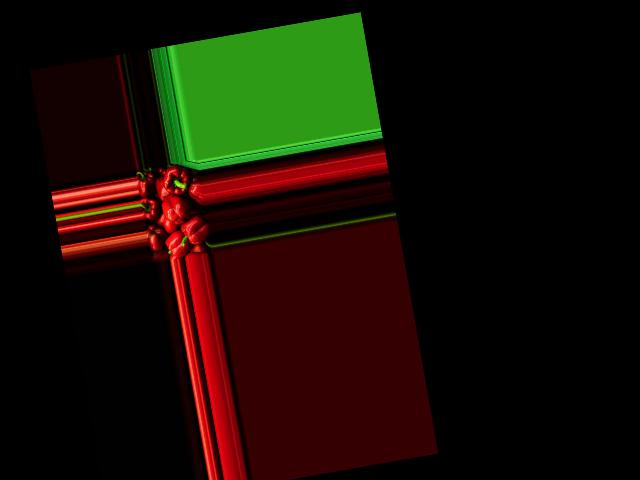bell_pepper: (135, 168, 157, 196)
